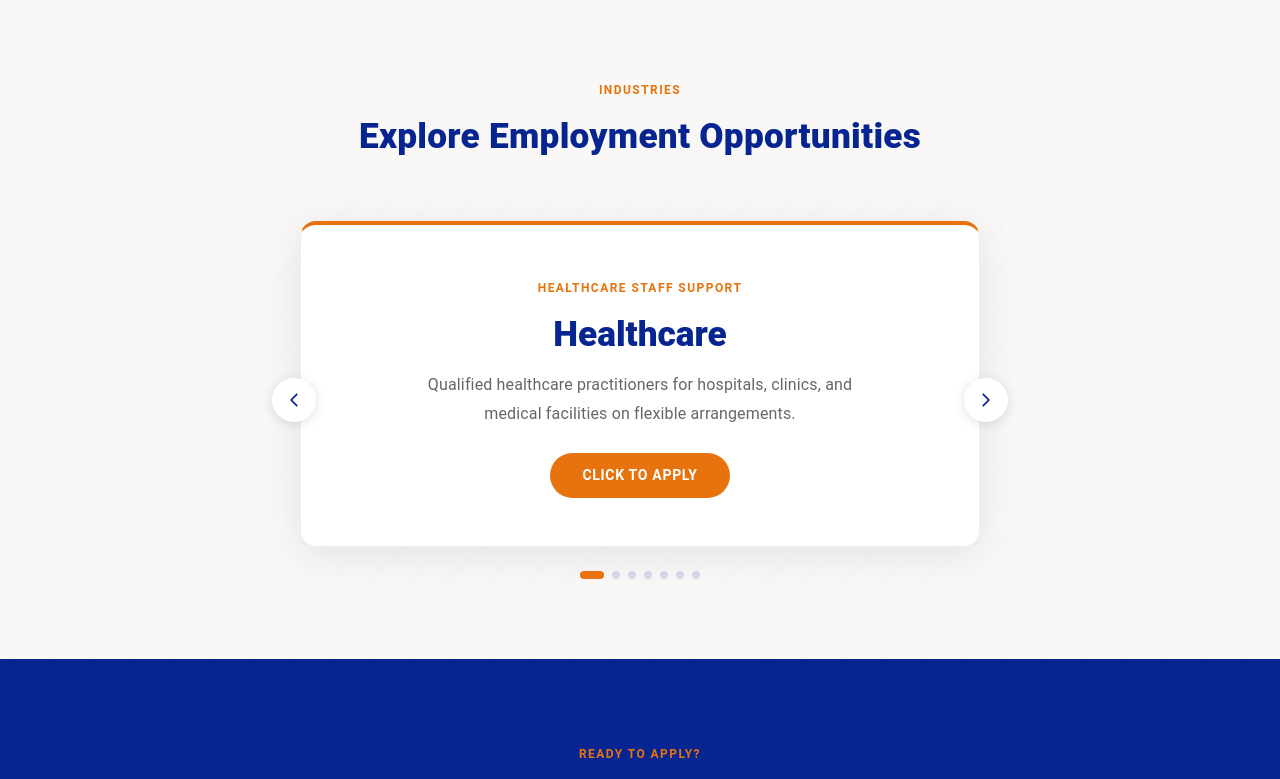
Test case: Card slideshow › clicking Previous from first card wraps to last card — Other
(page scrolled)
Click the button named "previous" at x=294, y=400, box left=272, top=378, right=316, bottom=422
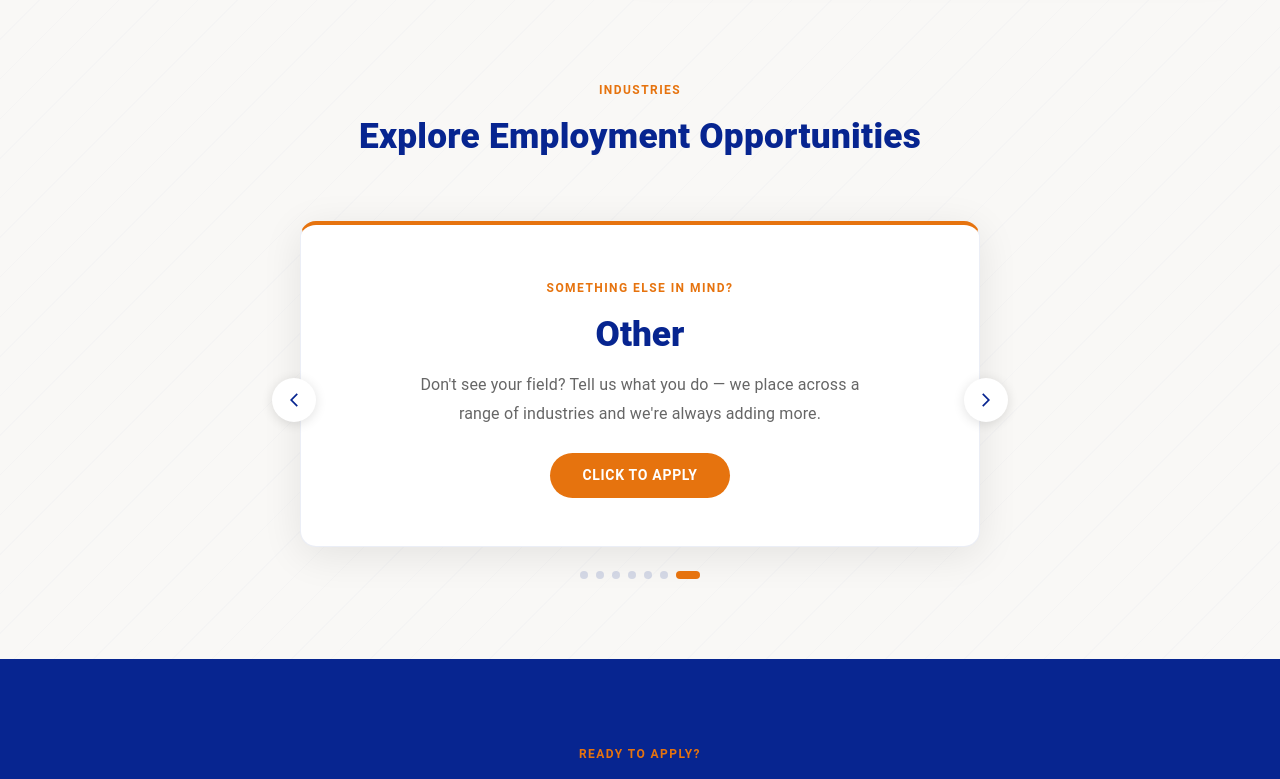
Expected: the heading "Other" is shown, left=596, top=313, right=684, bottom=355
Expected: the text "Something Else in Mind?" is shown, left=547, top=281, right=733, bottom=295
